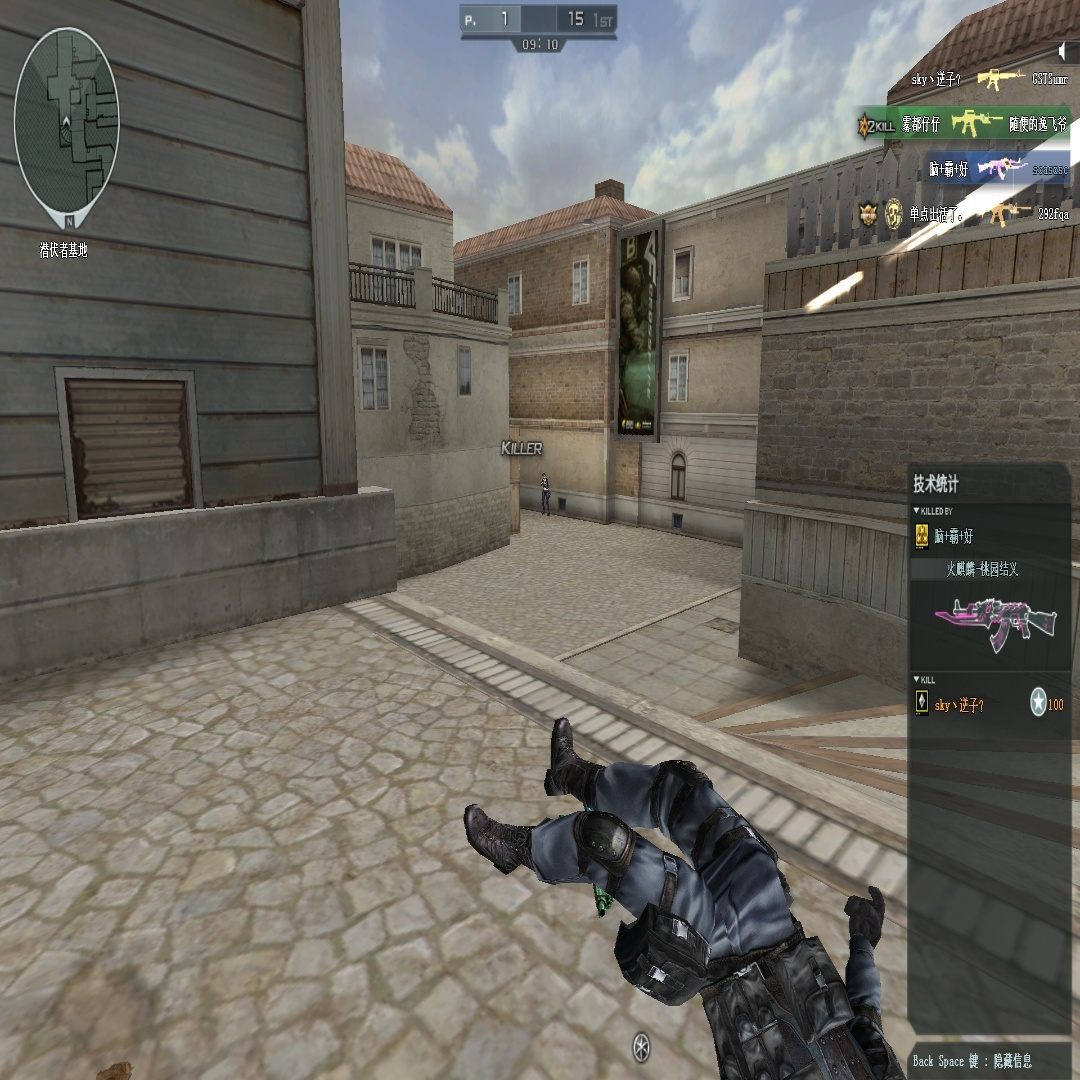head: (542, 472, 546, 480)
p: (541, 471, 551, 518)
